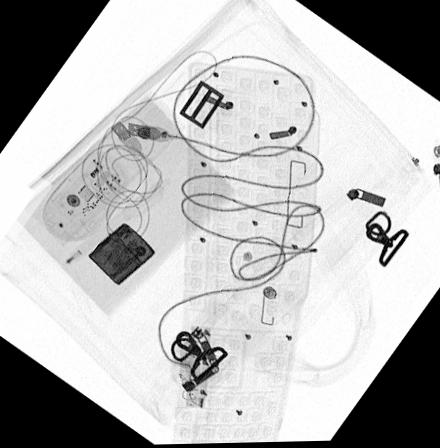Lighter: (87, 223, 155, 286)
